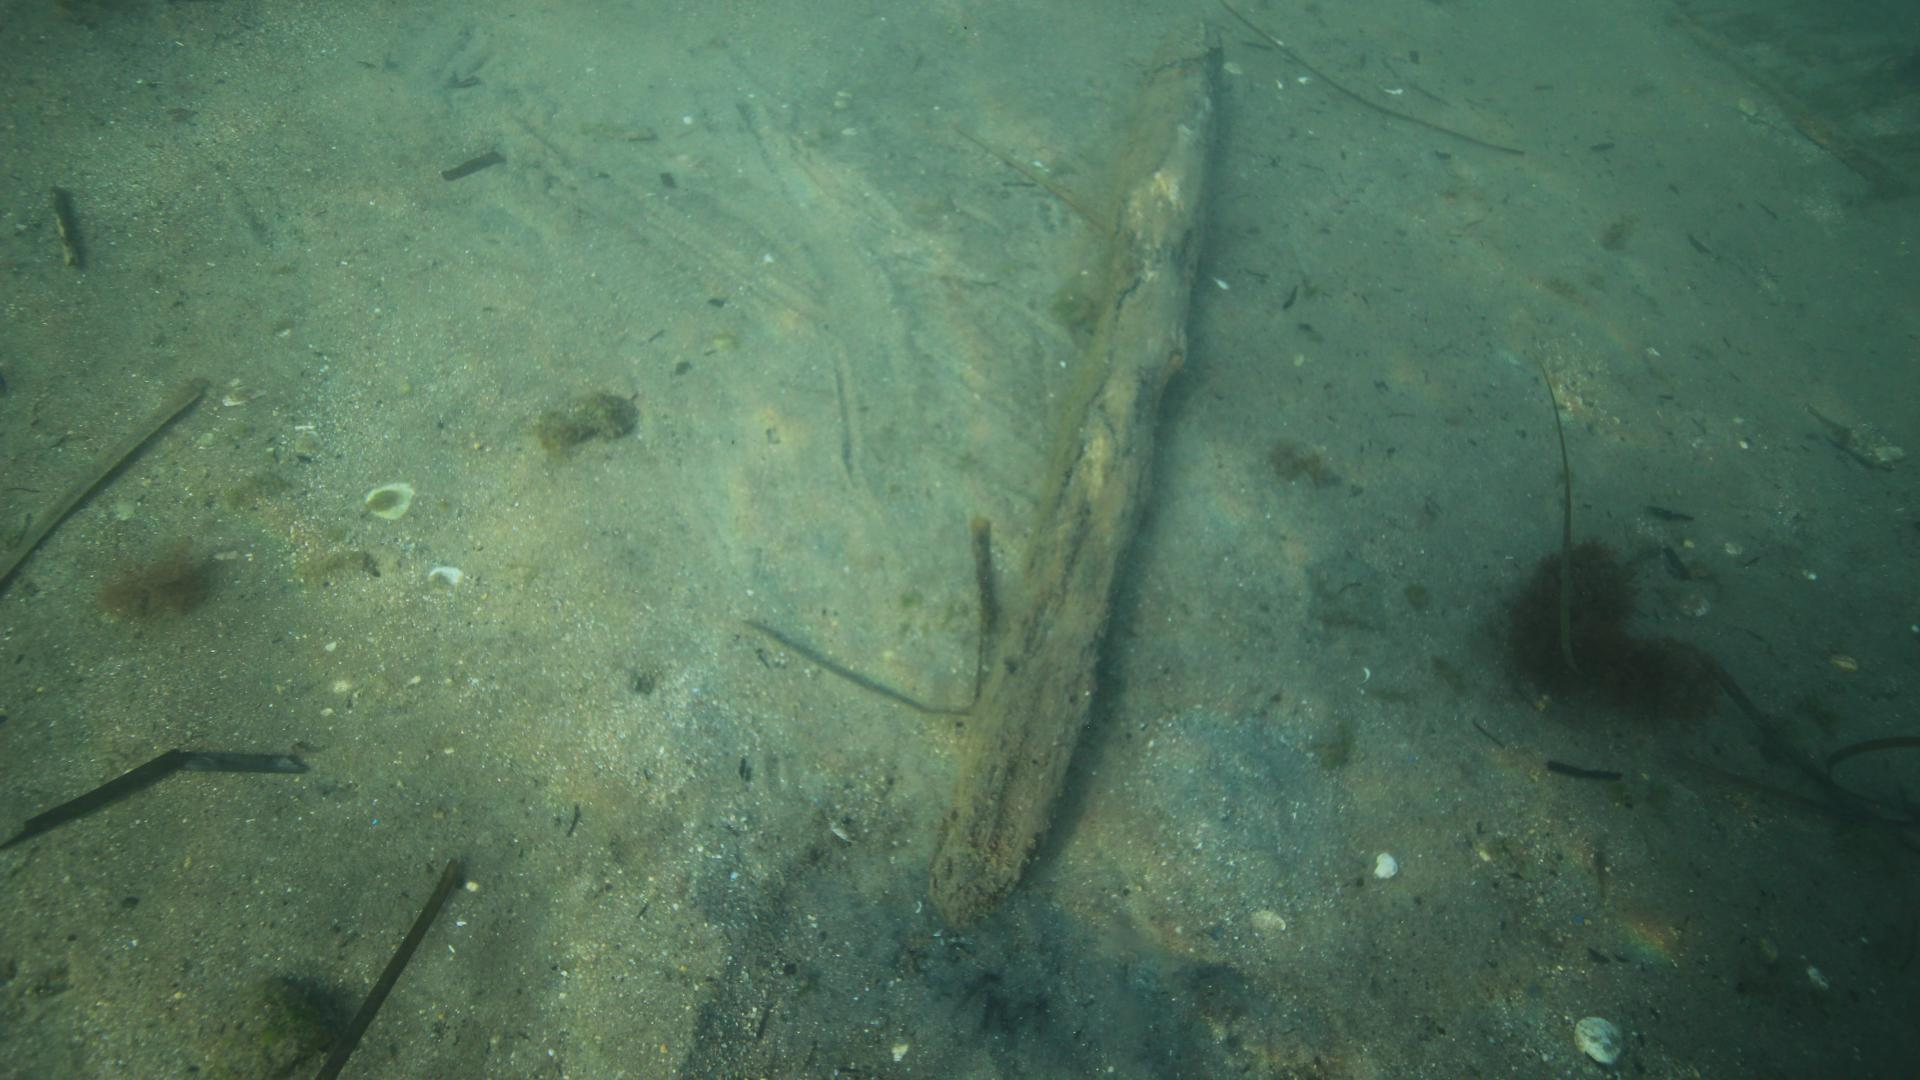wood: (913, 11, 1229, 931)
